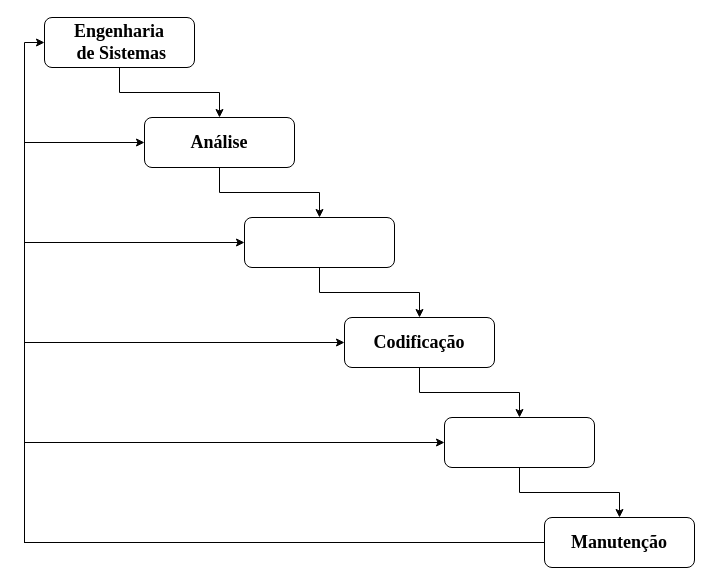
The diagram is 712 pixels wide and 585 high, and some of its shapes have lost their labels. Here are the shapes that lost their labels. From the top down, the centre of each, then its label:
At point 319,242: "Projeto".
At point 519,442: "Teste".
